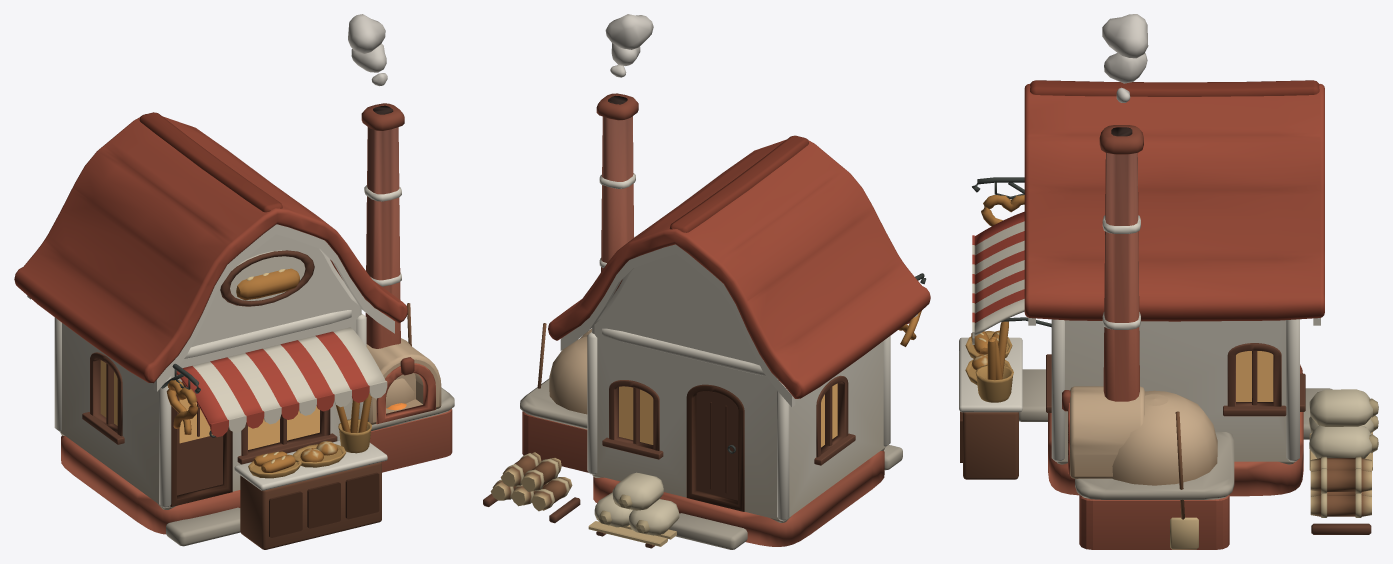
Rendered from BLD_Bakery_A.fbx.
The picture shows the model from 3 angles, left to right: view 1: azimuth 30°, elevation 25°; view 2: azimuth 150°, elevation 25°; view 3: azimuth 270°, elevation 25°; orthographic projection. The views are drawn at different scales.
Parts seen in each view (by area): view 1: BLD_Bakery_A_Body_LOD0, BLD_Bakery_A_Puff3_LOD0, BLD_Bakery_A_Sign_LOD0, BLD_Bakery_A_Puff2_LOD0; view 2: BLD_Bakery_A_Body_LOD0, BLD_Bakery_A_Puff3_LOD0; view 3: BLD_Bakery_A_Body_LOD0, BLD_Bakery_A_Puff3_LOD0, BLD_Bakery_A_Puff2_LOD0, BLD_Bakery_A_Sign_LOD0.
Boxes of the visible parts, x1,y1,x2,y2 form: BLD_Bakery_A_Body_LOD0: [14, 103, 454, 549]; BLD_Bakery_A_Puff3_LOD0: [348, 14, 385, 53]; BLD_Bakery_A_Sign_LOD0: [166, 369, 198, 434]; BLD_Bakery_A_Puff2_LOD0: [351, 43, 386, 72]; BLD_Bakery_A_Body_LOD0: [483, 93, 930, 549]; BLD_Bakery_A_Puff3_LOD0: [605, 14, 653, 49]; BLD_Bakery_A_Body_LOD0: [959, 80, 1378, 549]; BLD_Bakery_A_Puff3_LOD0: [1102, 14, 1148, 58]; BLD_Bakery_A_Puff2_LOD0: [1104, 53, 1147, 83]; BLD_Bakery_A_Sign_LOD0: [981, 182, 1024, 226].
Size of what is drawn, in the model's own units: 4.6 by 5.67 by 4.36.
